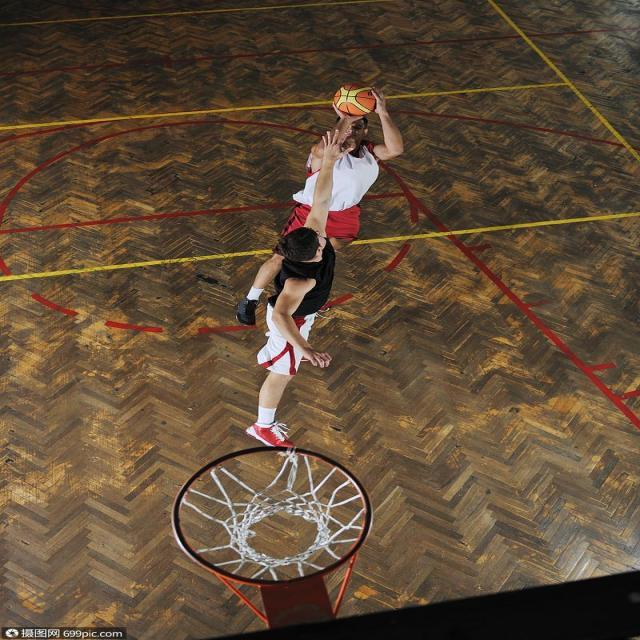rim: (334, 82, 376, 116)
